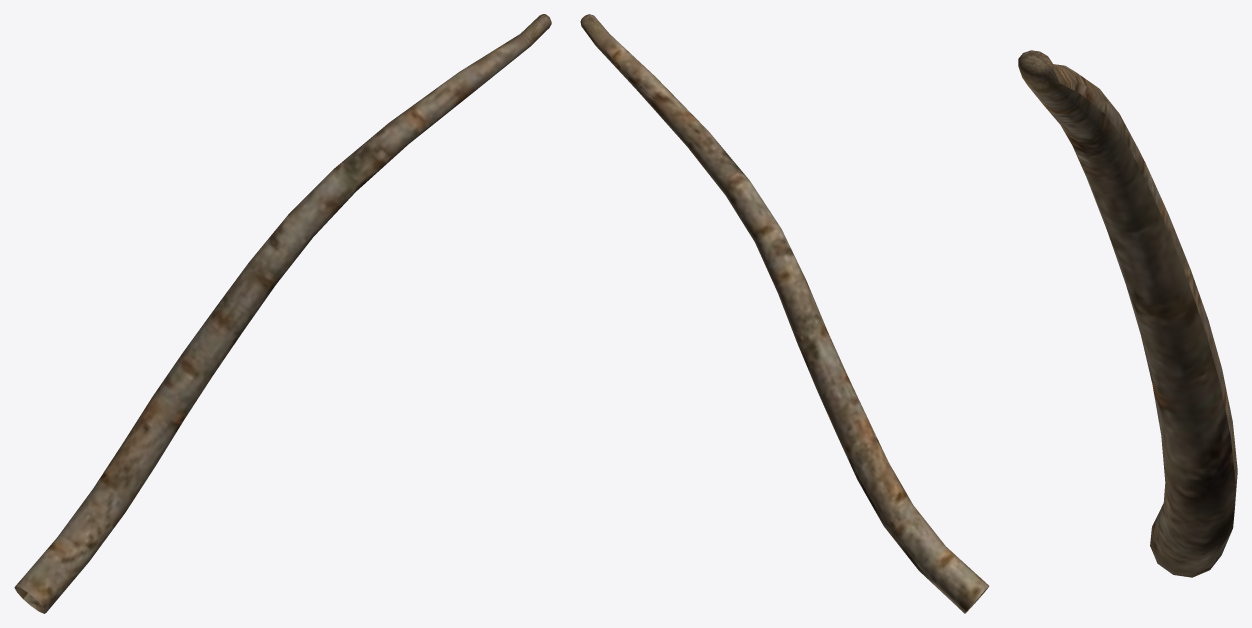
3 views of the same model, side by side, from view 1: azimuth 30°, elevation 25°; view 2: azimuth 150°, elevation 25°; view 3: azimuth 270°, elevation 25° (orthographic). The views are drawn at different scales.
Visible parts, largest first — view 1: G-Line003.012; view 2: G-Line003.012; view 3: G-Line003.012.
Boxes of the visible parts, x1,y1,x2,y2 form: G-Line003.012: (14, 14, 551, 613); G-Line003.012: (580, 14, 989, 613); G-Line003.012: (1018, 50, 1237, 577).
Size of the model in its own units: 0.9028 by 0.9109 by 0.1942.
1 material, 1 textured.
